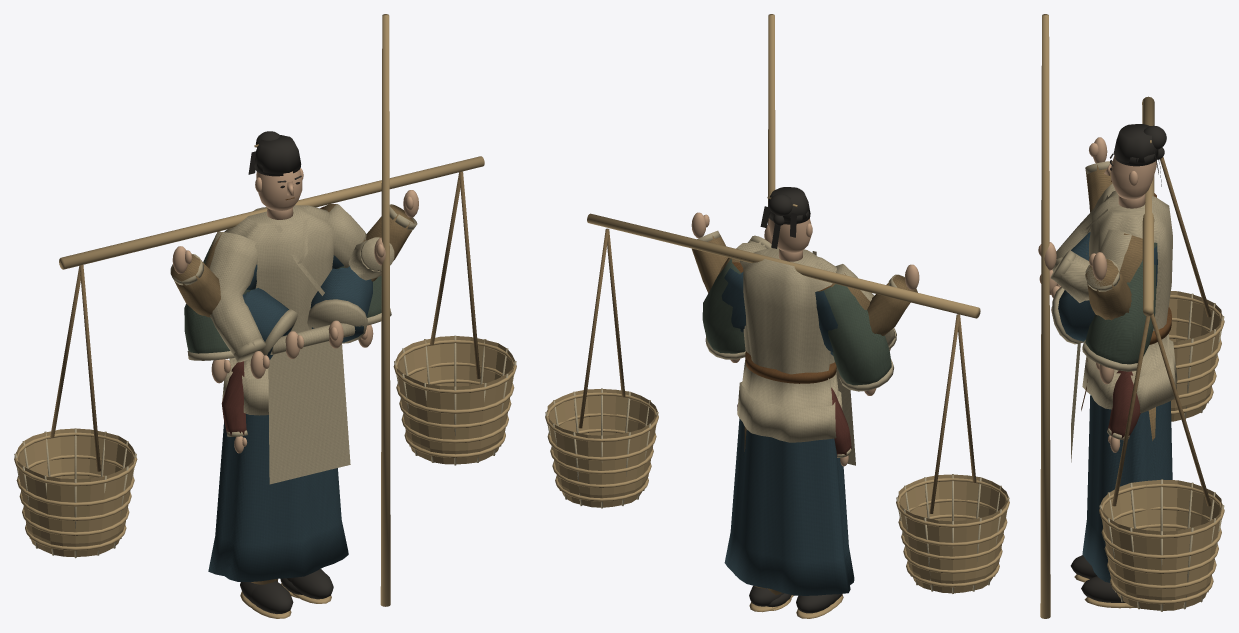
File: period-people.glb
3 views of the same model, side by side, from view 1: azimuth 30°, elevation 25°; view 2: azimuth 150°, elevation 25°; view 3: azimuth 270°, elevation 25° (orthographic). The views are drawn at different scales.
Visible parts, largest first — view 1: person_porter__props, person_scholar__body, person_vendor__body, person_boatman__body, person_boatman__props, person_boatman__arm_left, person_scholar__arm_right, person_boatman__arm_right, person_porter__arm_left, person_scholar__arm_left, person_boatman__head, person_woman__arm_left (+6 smaller); view 2: person_porter__props, person_scholar__body, person_boatman__body, person_woman__arm_left, person_woman__arm_right, person_porter__arm_left, person_boatman__head, person_porter__arm_right, person_boatman__props, person_scholar__head, person_scholar__arm_right, person_child__arm_left (+3 smaller); view 3: person_porter__props, person_boatman__body, person_scholar__body, person_boatman__props, person_woman__arm_right, person_porter__arm_right, person_boatman__arm_right, person_boatman__head, person_scholar__arm_right, person_child__arm_right, person_scholar__head, person_porter__arm_left (+6 smaller).
Boxes of the visible parts, x1=… form: person_porter__props: x1=14, y1=156, x2=516, y2=558; person_scholar__body: x1=208, y1=414, x2=348, y2=581; person_vendor__body: x1=268, y1=341, x2=350, y2=484; person_boatman__body: x1=222, y1=205, x2=333, y2=415; person_boatman__props: x1=380, y1=14, x2=390, y2=606; person_boatman__arm_left: x1=209, y1=232, x2=269, y2=378; person_scholar__arm_right: x1=307, y1=255, x2=372, y2=348; person_boatman__arm_right: x1=327, y1=204, x2=394, y2=280; person_porter__arm_left: x1=170, y1=231, x2=222, y2=317; person_scholar__arm_left: x1=242, y1=264, x2=304, y2=360; person_boatman__head: x1=254, y1=158, x2=303, y2=219; person_woman__arm_left: x1=184, y1=234, x2=250, y2=360; person_porter__props: x1=545, y1=213, x2=1009, y2=593; person_scholar__body: x1=724, y1=418, x2=854, y2=595; person_boatman__body: x1=737, y1=247, x2=842, y2=442; person_woman__arm_left: x1=818, y1=284, x2=893, y2=391; person_woman__arm_right: x1=702, y1=258, x2=745, y2=359; person_porter__arm_left: x1=831, y1=264, x2=919, y2=335; person_boatman__head: x1=768, y1=211, x2=812, y2=261; person_porter__arm_right: x1=691, y1=212, x2=739, y2=293; person_boatman__props: x1=768, y1=14, x2=775, y2=224; person_scholar__head: x1=760, y1=187, x2=810, y2=237; person_scholar__arm_right: x1=721, y1=268, x2=745, y2=332; person_child__arm_left: x1=831, y1=387, x2=852, y2=466; person_porter__props: x1=1099, y1=96, x2=1224, y2=611; person_boatman__body: x1=1081, y1=190, x2=1177, y2=413; person_scholar__body: x1=1082, y1=395, x2=1172, y2=582; person_boatman__props: x1=1040, y1=14, x2=1050, y2=618; person_woman__arm_right: x1=1082, y1=242, x2=1157, y2=371; person_porter__arm_right: x1=1085, y1=233, x2=1142, y2=320; person_boatman__arm_right: x1=1038, y1=229, x2=1132, y2=302; person_boatman__head: x1=1104, y1=147, x2=1164, y2=208; person_scholar__arm_right: x1=1051, y1=245, x2=1157, y2=344; person_child__arm_right: x1=1107, y1=370, x2=1140, y2=452; person_scholar__head: x1=1113, y1=124, x2=1158, y2=174; person_porter__arm_left: x1=1085, y1=137, x2=1112, y2=212.
Bounding box in the file's own units: 1.92 × 2.25 × 0.6255.
Materials: 11 (6 with a texture image).
